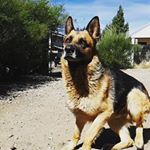puppy: (58, 15, 148, 150)
